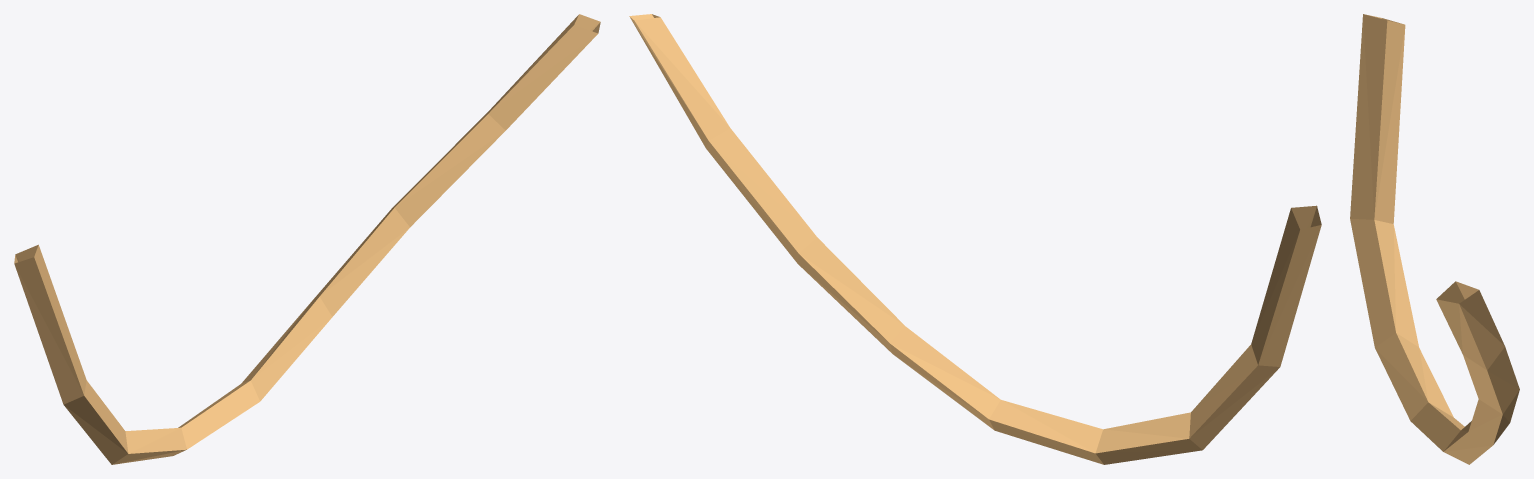
Rendered from Harpoon_String_001.fbx.
3 views of the same model, side by side, from view 1: azimuth 30°, elevation 25°; view 2: azimuth 150°, elevation 25°; view 3: azimuth 270°, elevation 25° (orthographic). The views are drawn at different scales.
Parts seen in each view (by area): view 1: Harpoon_String_001; view 2: Harpoon_String_001; view 3: Harpoon_String_001.
Boxes of the visible parts, x1,y1,x2,y2 form: Harpoon_String_001: [14, 14, 600, 464]; Harpoon_String_001: [629, 14, 1321, 464]; Harpoon_String_001: [1350, 14, 1519, 464].
Size of the model in its own units: 0.4265 by 0.2151 by 0.083.
